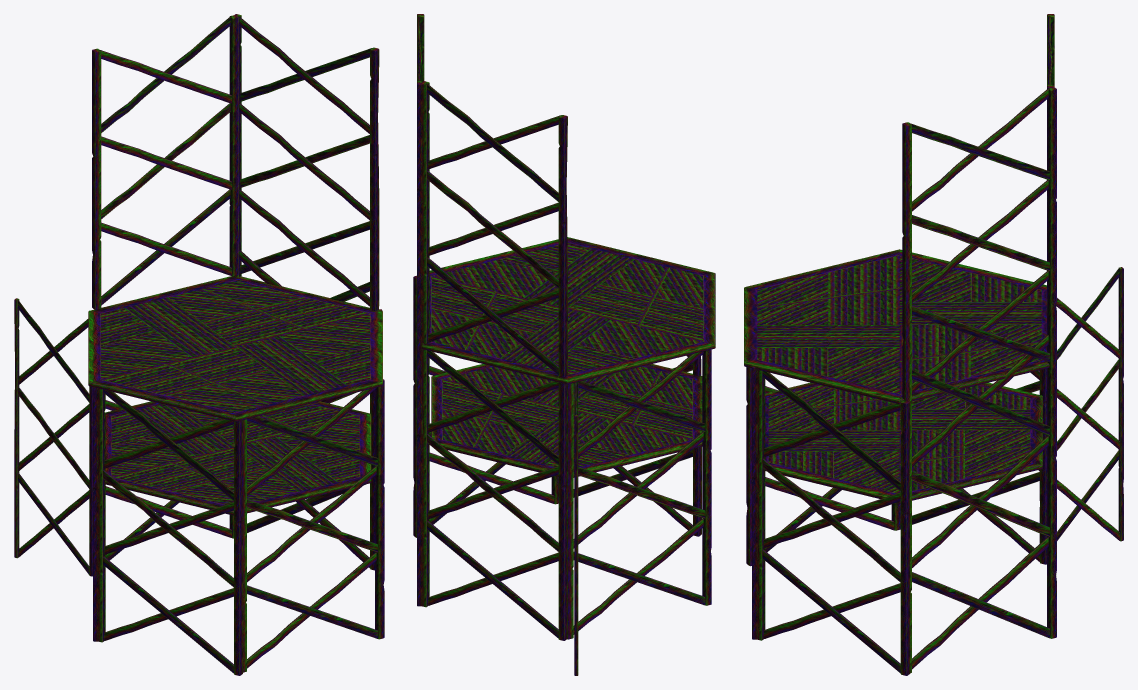
The model's file is SM_30x30WoodSupportsHexagon.fbx.
3 renders of one model, left to right at view 1: azimuth 30°, elevation 25°; view 2: azimuth 150°, elevation 25°; view 3: azimuth 270°, elevation 25°, orthographic. The views are drawn at different scales.
Parts seen in each view (by area): view 1: SM_30x30WoodSupportsHexagon_LOD0; view 2: SM_30x30WoodSupportsHexagon_LOD0; view 3: SM_30x30WoodSupportsHexagon_LOD0.
Boxes of the visible parts, x1=… form: SM_30x30WoodSupportsHexagon_LOD0: x1=14, y1=14, x2=384, y2=675; SM_30x30WoodSupportsHexagon_LOD0: x1=413, y1=14, x2=715, y2=675; SM_30x30WoodSupportsHexagon_LOD0: x1=744, y1=14, x2=1123, y2=675.
Size of the model in its own units: 3245 by 3405 by 5437.
1 material, 1 textured.
